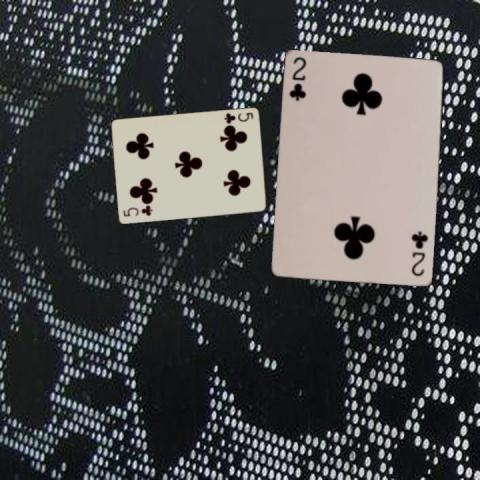2c: (409, 229, 430, 278), (287, 54, 308, 103)
5c: (221, 110, 254, 126), (120, 204, 154, 218)
